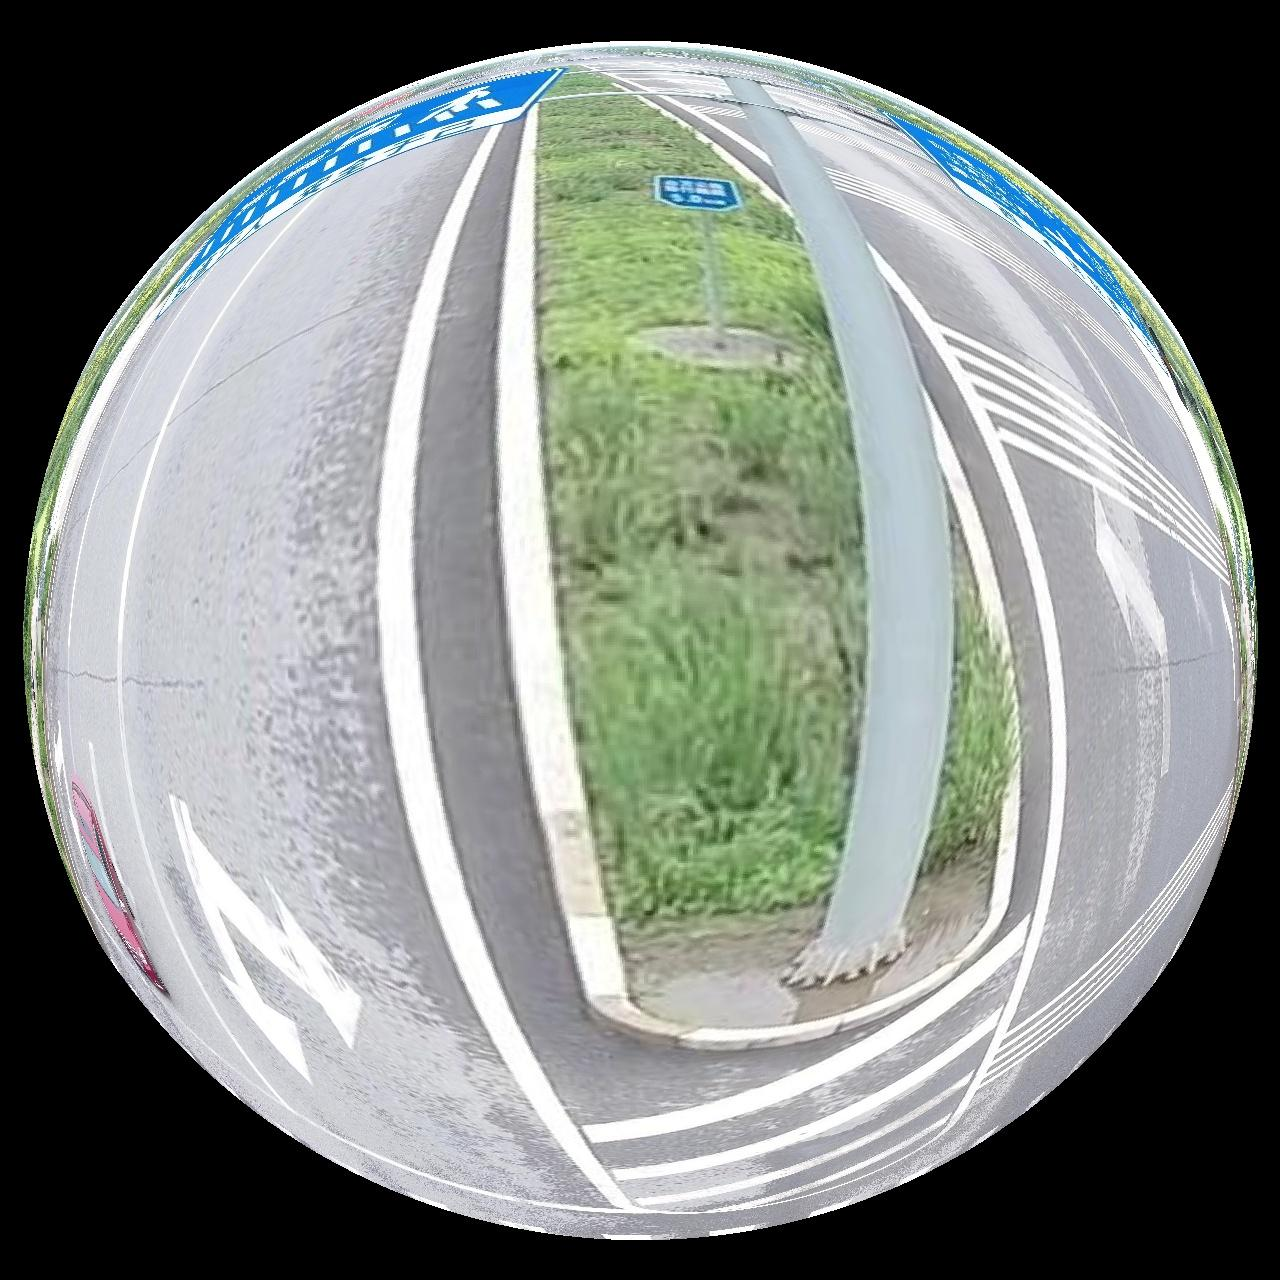cars: (69, 779, 164, 994)
trees: (538, 96, 867, 921), (930, 574, 1014, 865)
